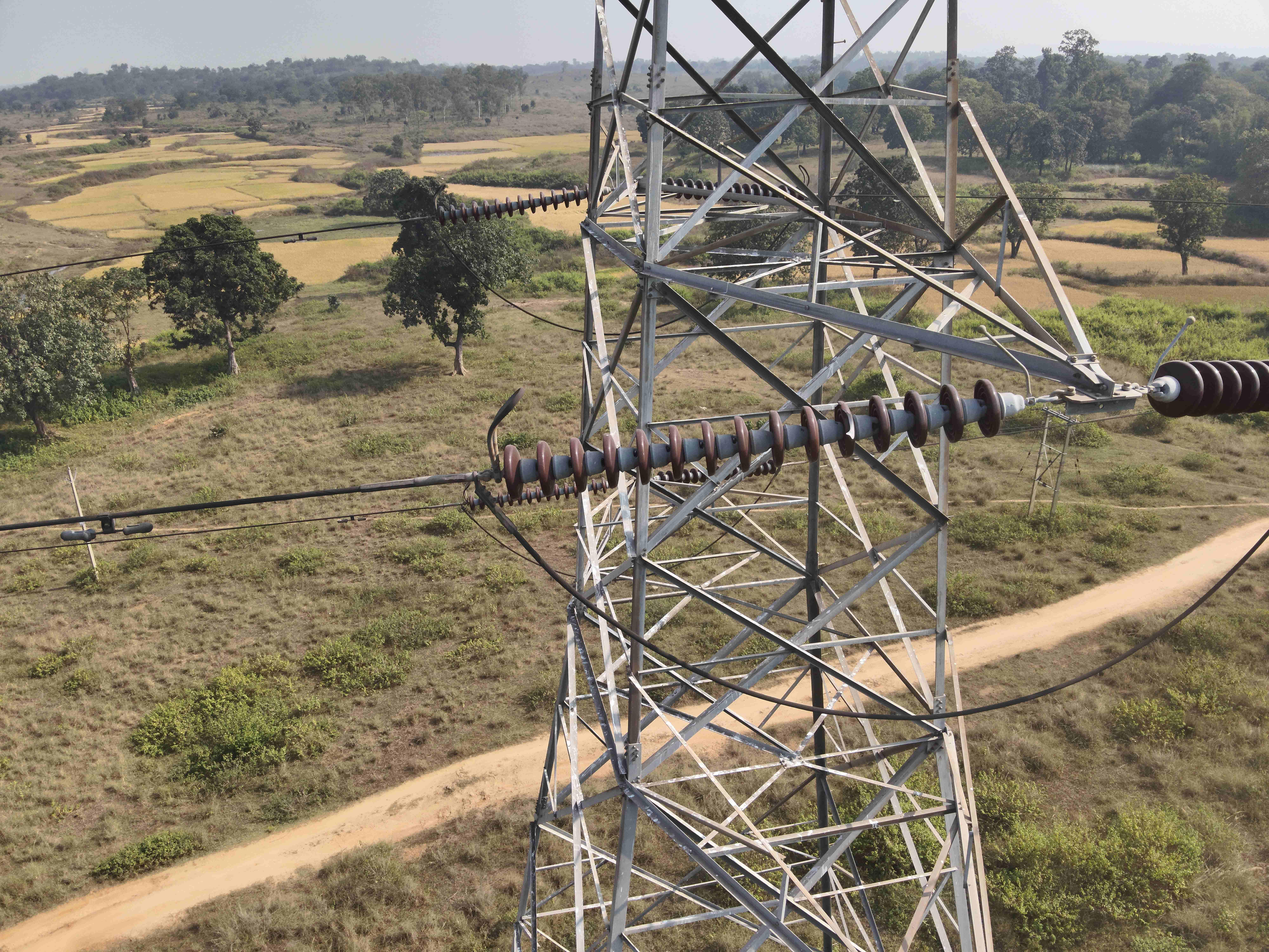broken_insulator: (829, 397, 864, 459)
